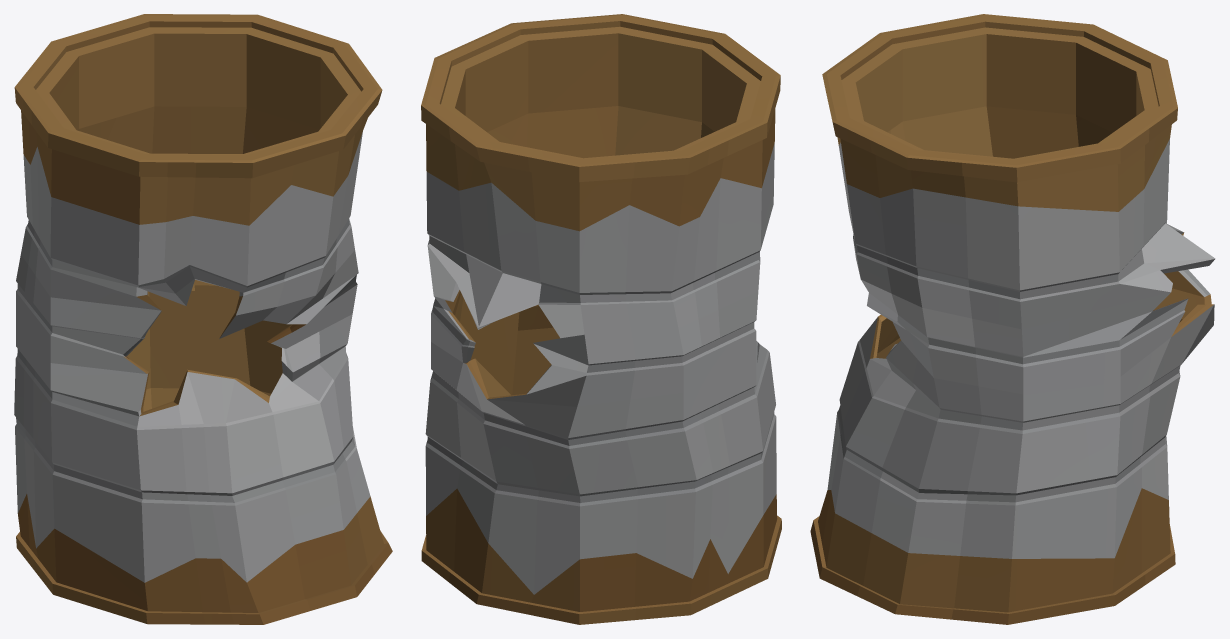
The model's file is shot_can_with_food_b.glb.
3 views of the same model, side by side, from view 1: azimuth 30°, elevation 25°; view 2: azimuth 150°, elevation 25°; view 3: azimuth 270°, elevation 25° (orthographic).
Parts seen in each view (by area): view 1: shot_can_with_food_b; view 2: shot_can_with_food_b; view 3: shot_can_with_food_b.
Boxes of the visible parts, bbox=[...] form: shot_can_with_food_b: bbox=[14, 14, 392, 624]; shot_can_with_food_b: bbox=[421, 14, 781, 624]; shot_can_with_food_b: bbox=[810, 14, 1215, 624].
Size of the model in its own units: 0.1106 by 0.1517 by 0.122.
1 material, 1 textured.
